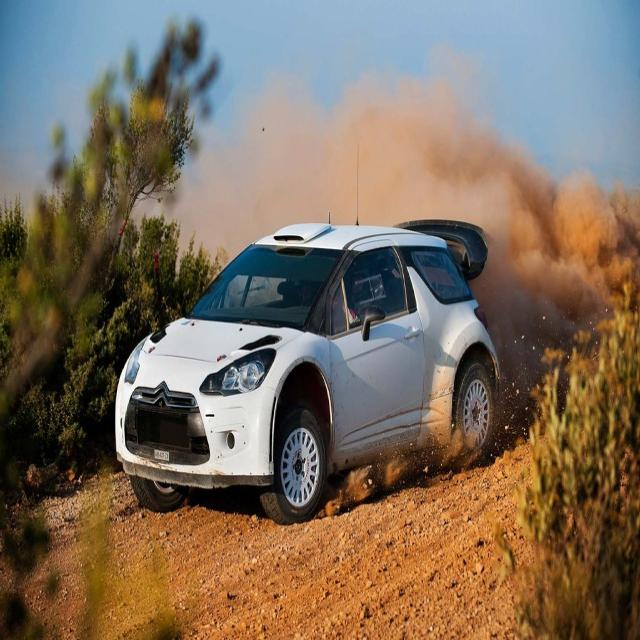car: (104, 214, 507, 520)
